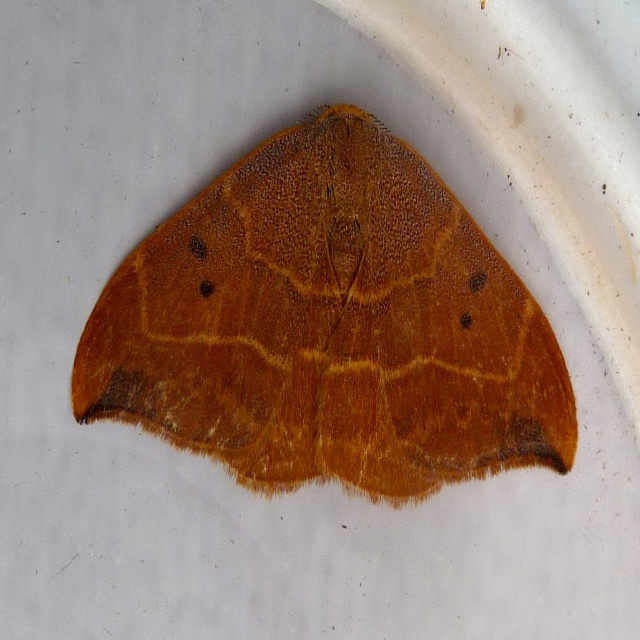Butterfly: (63, 114, 568, 497)
